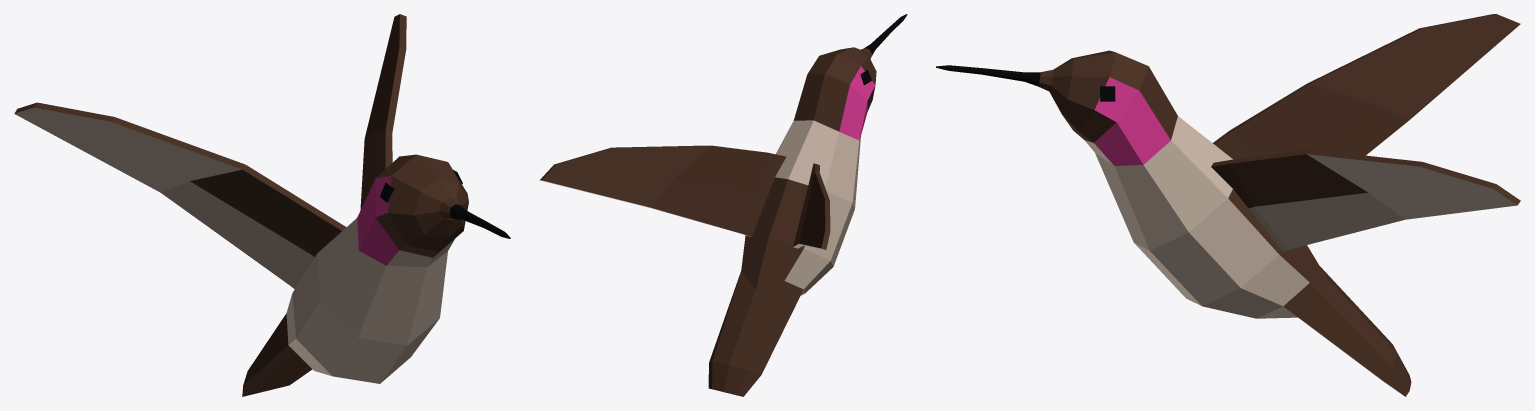
The model's file is Mesh_Hummingbird.obj.
3 views of the same model, side by side, from view 1: azimuth 30°, elevation 25°; view 2: azimuth 150°, elevation 25°; view 3: azimuth 270°, elevation 25° (orthographic). The views are drawn at different scales.
Parts seen in each view (by area): view 1: Geo_Hummingbird; view 2: Geo_Hummingbird; view 3: Geo_Hummingbird.
Boxes of the visible parts, bbox=[...] form: Geo_Hummingbird: bbox=[14, 14, 510, 396]; Geo_Hummingbird: bbox=[540, 14, 907, 396]; Geo_Hummingbird: bbox=[936, 14, 1520, 396].
Bounding box in the file's own units: 91.68 × 78.54 × 125.
Materials: 1 (1 with a texture image).
